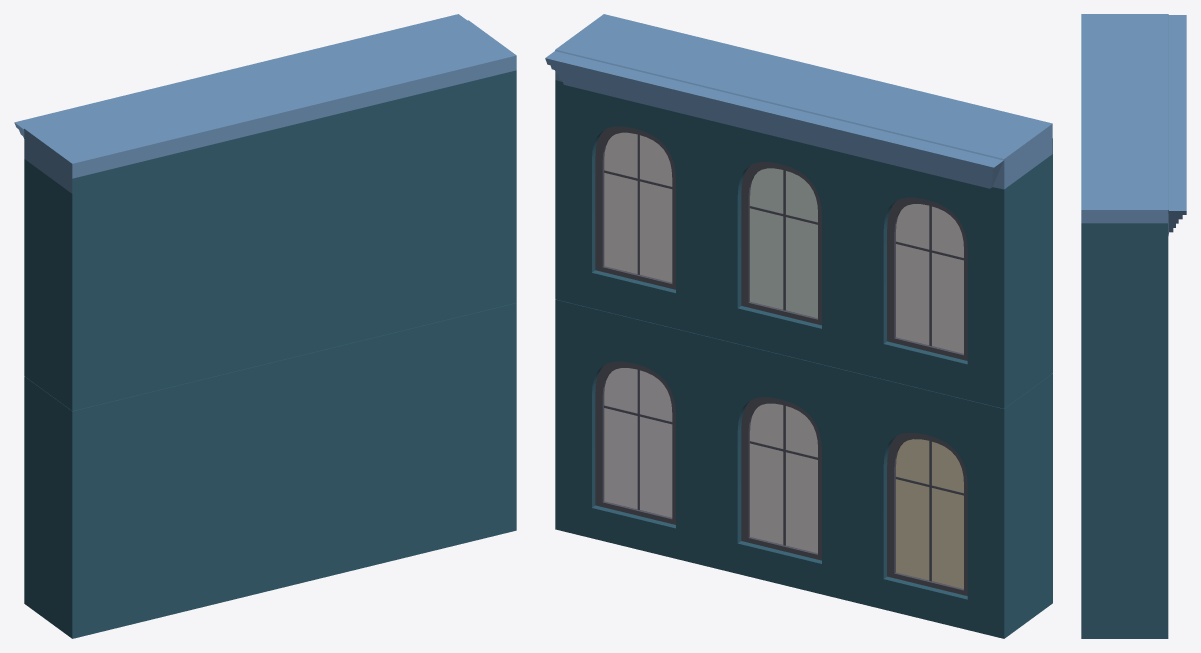
The picture shows the model from 3 angles, left to right: view 1: azimuth 30°, elevation 25°; view 2: azimuth 150°, elevation 25°; view 3: azimuth 270°, elevation 25°; orthographic projection. The views are drawn at different scales.
Visible parts, largest first — view 1: Facade011; view 2: Facade011; view 3: Facade011.
Boxes of the visible parts, x1,y1,x2,y2 form: Facade011: (14,14,516,638); Facade011: (545,14,1052,638); Facade011: (1081,14,1186,638).
Size of the model in its own units: 315 by 322 by 71.51.
